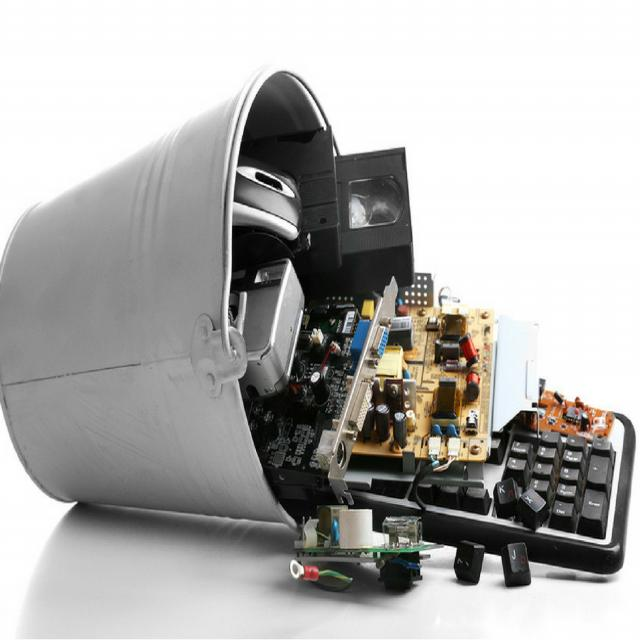plastic: (415, 407, 638, 578)
